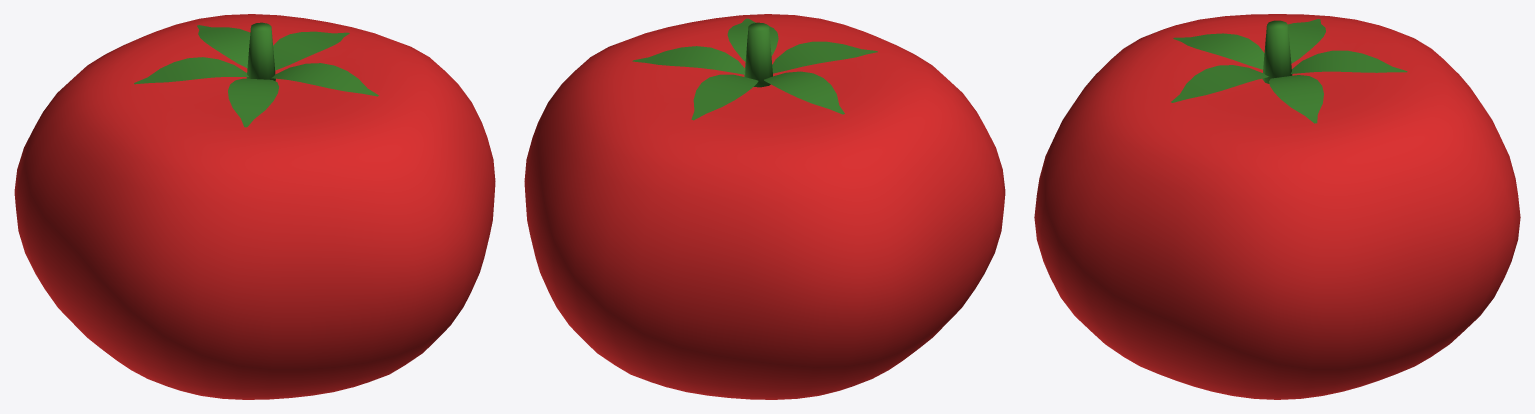
Rendered from tomate.glb.
The picture shows the model from 3 angles, left to right: view 1: azimuth 30°, elevation 25°; view 2: azimuth 150°, elevation 25°; view 3: azimuth 270°, elevation 25°; orthographic projection.
Parts seen in each view (by area): view 1: Corpo, Talo; view 2: Corpo, Talo; view 3: Corpo, Talo.
Part boxes in pixels (left/top/right/bottom): Corpo: left=14, top=14, right=495, bottom=399; Talo: left=134, top=22, right=378, bottom=127; Corpo: left=524, top=14, right=1005, bottom=399; Talo: left=632, top=18, right=877, bottom=120; Corpo: left=1034, top=14, right=1520, bottom=399; Talo: left=1171, top=19, right=1407, bottom=123.
Size of the model in its own units: 1 by 0.755 by 1.01.
